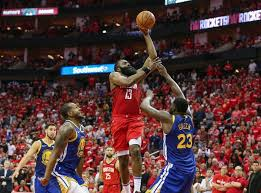ball: (135, 11, 155, 31)
